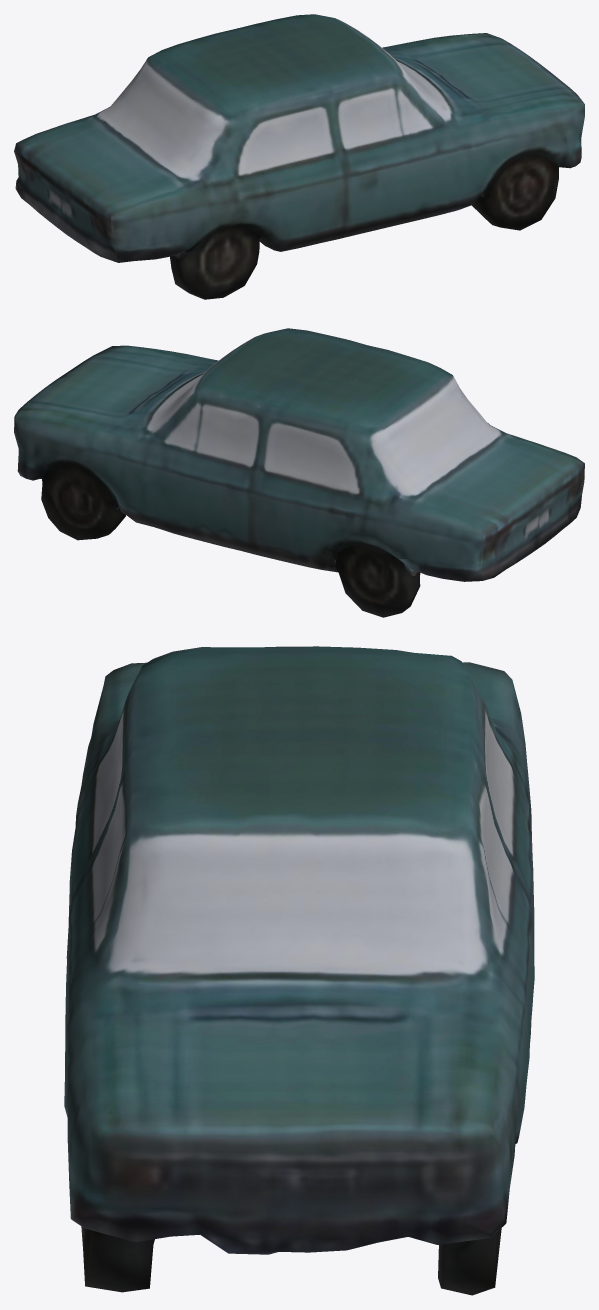
Rendered from 6fd9815ed071_Old_Soviet_era_car_.fbx.
The picture shows the model from 3 angles, top to bottom: view 1: azimuth 30°, elevation 25°; view 2: azimuth 150°, elevation 25°; view 3: azimuth 270°, elevation 25°; orthographic projection. The views are drawn at different scales.
Visible parts, largest first — view 1: mesh; view 2: mesh; view 3: mesh.
Boxes of the visible parts, x1,y1,x2,y2 form: mesh: (14, 14, 584, 299); mesh: (14, 328, 584, 617); mesh: (64, 646, 534, 1295).
Bounding box in the file's own units: 4.34 × 1.83 × 1.59.
